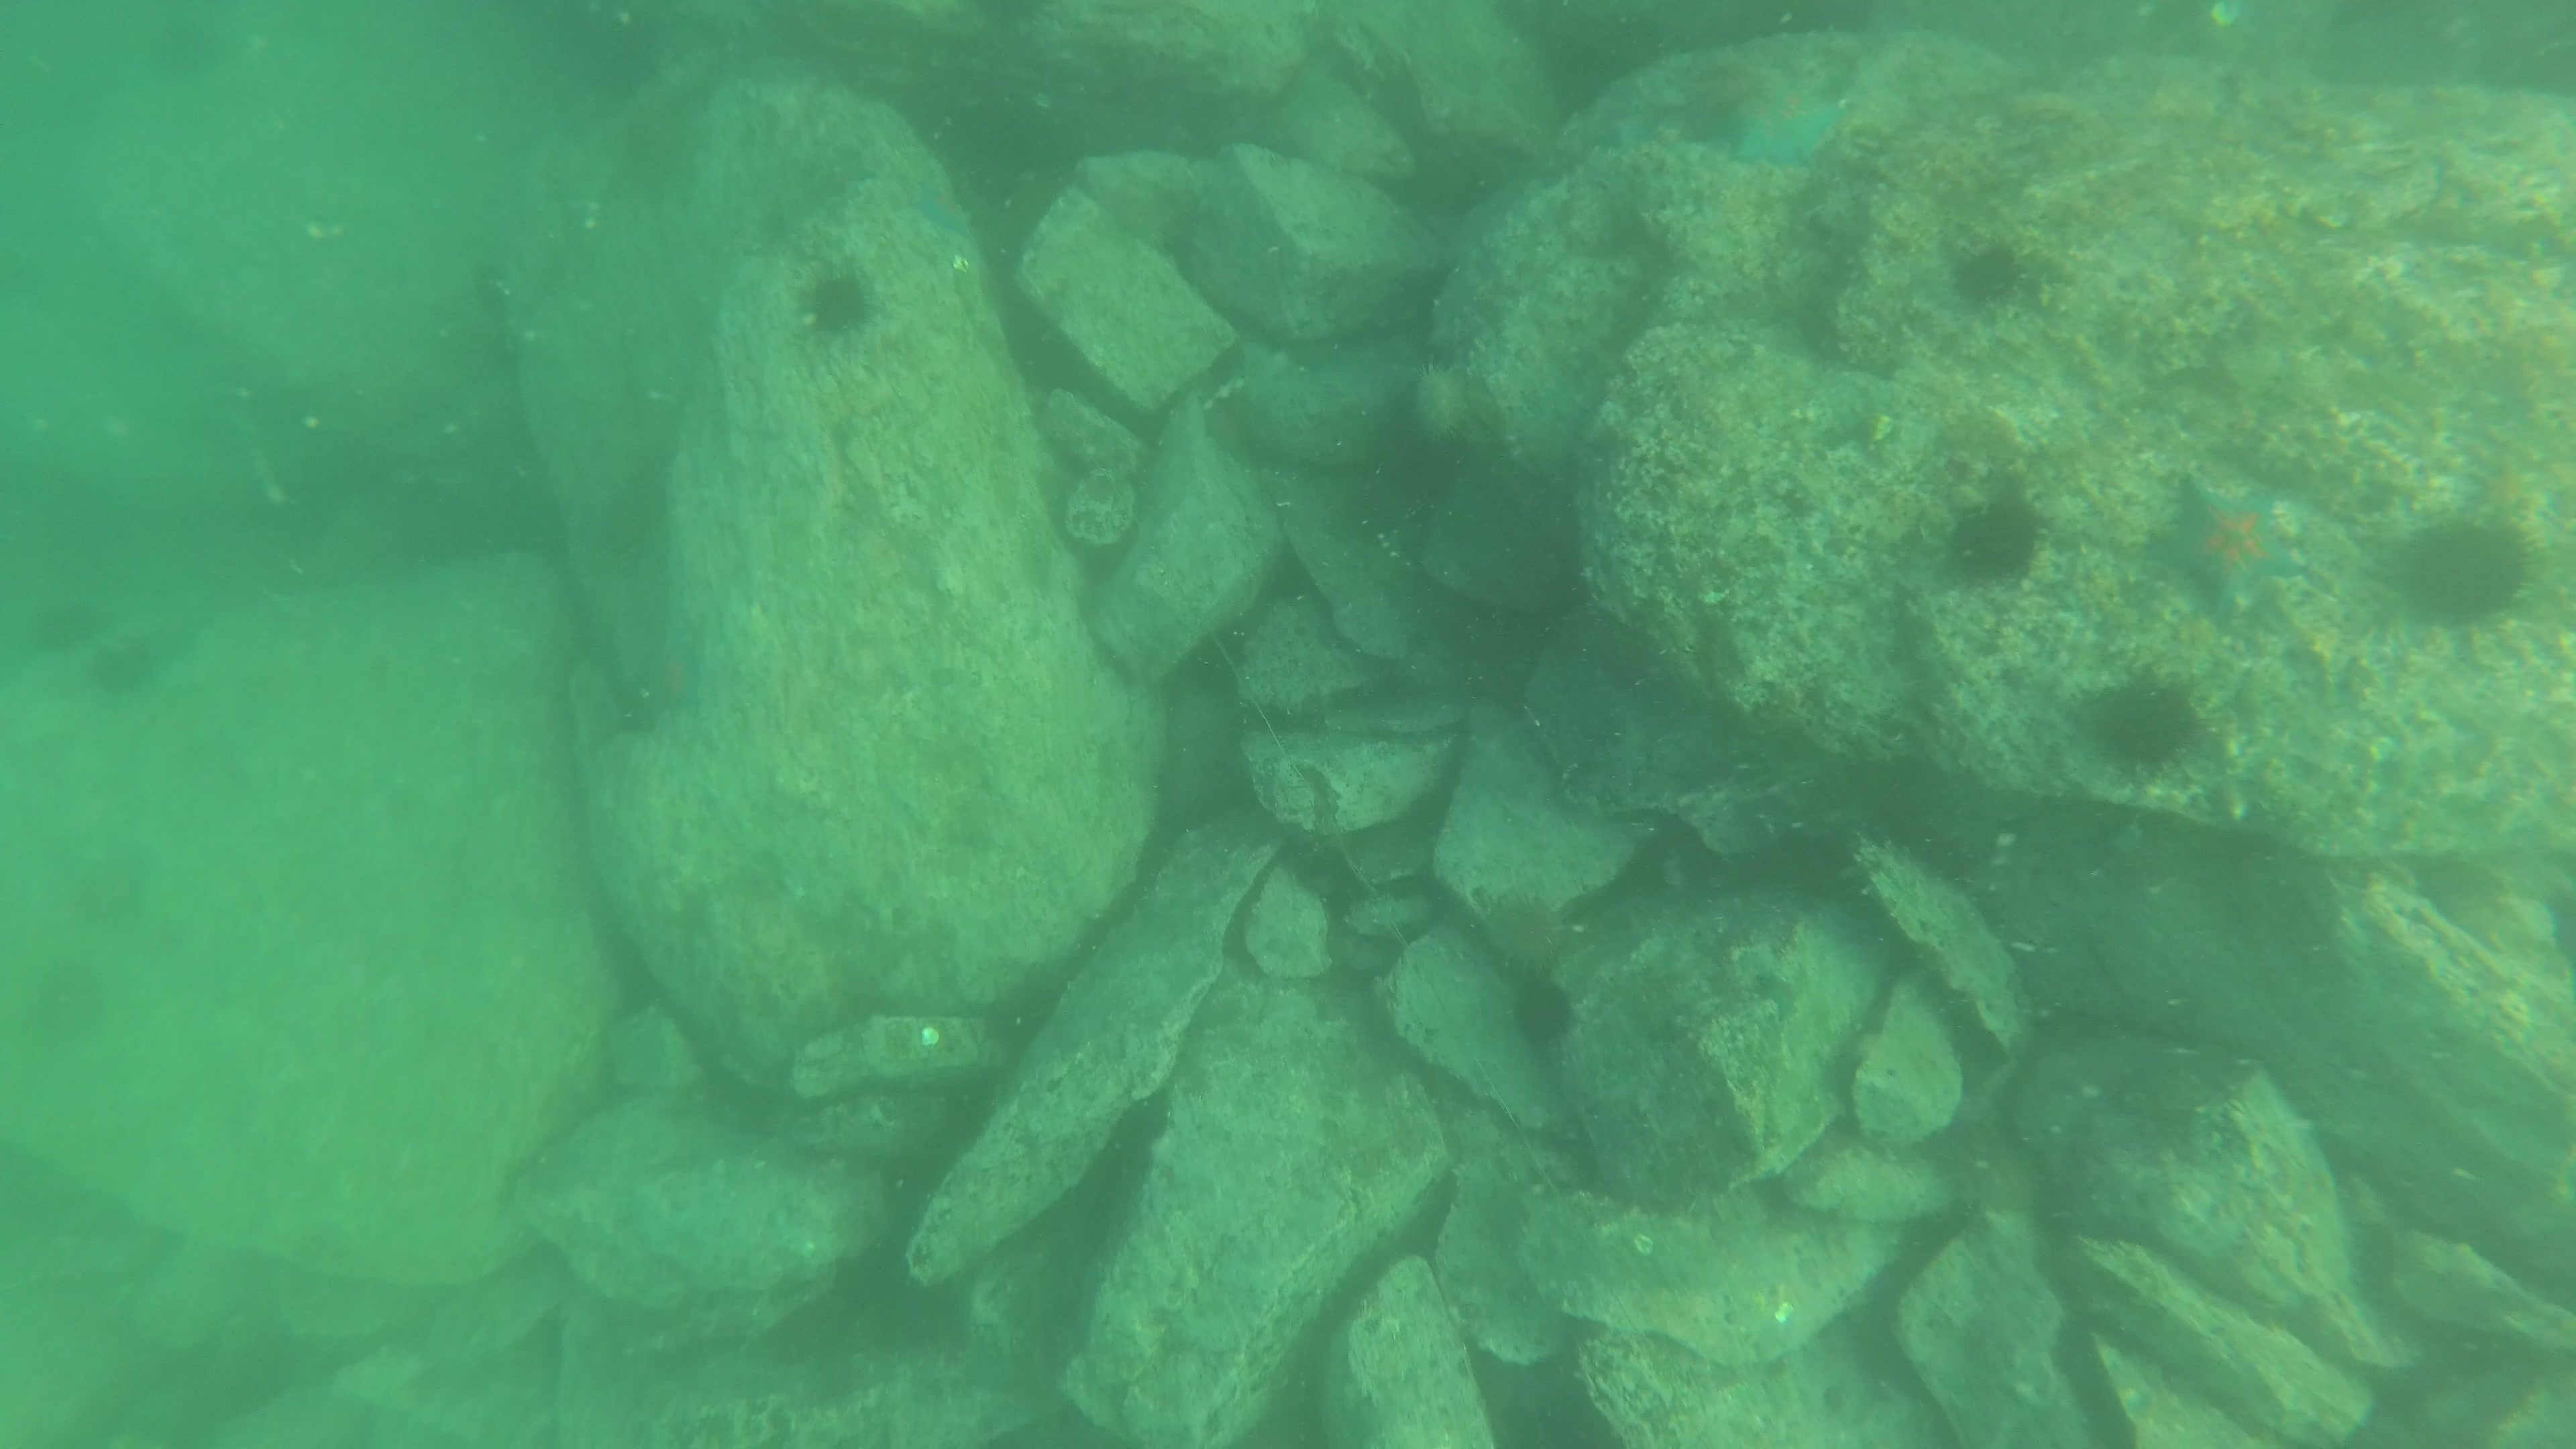echinus: (2387, 508, 2537, 633), (2075, 667, 2208, 782), (1937, 487, 2051, 591), (1468, 885, 1578, 987), (1941, 230, 2051, 320), (1399, 354, 1497, 453), (791, 257, 885, 345), (1497, 962, 1583, 1056), (1677, 39, 1762, 126), (78, 628, 168, 706), (30, 603, 110, 658)
starfish: (2146, 469, 2309, 619), (1732, 81, 1872, 184), (893, 145, 977, 244)
